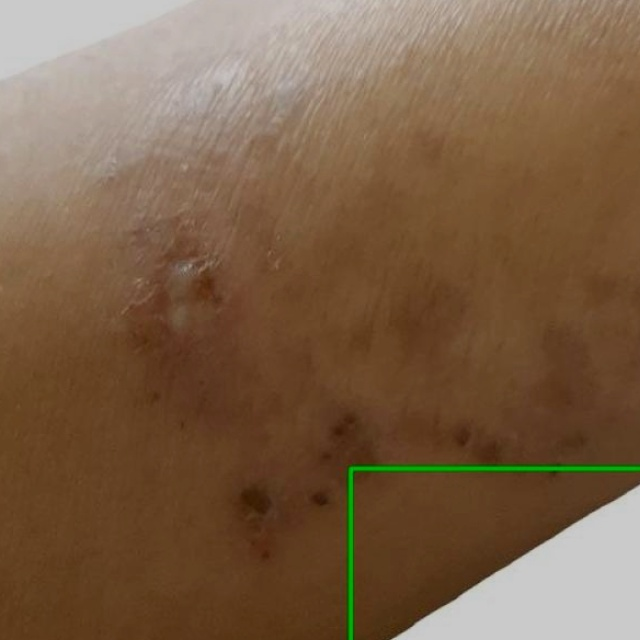Scabies: (351, 468, 639, 639)
